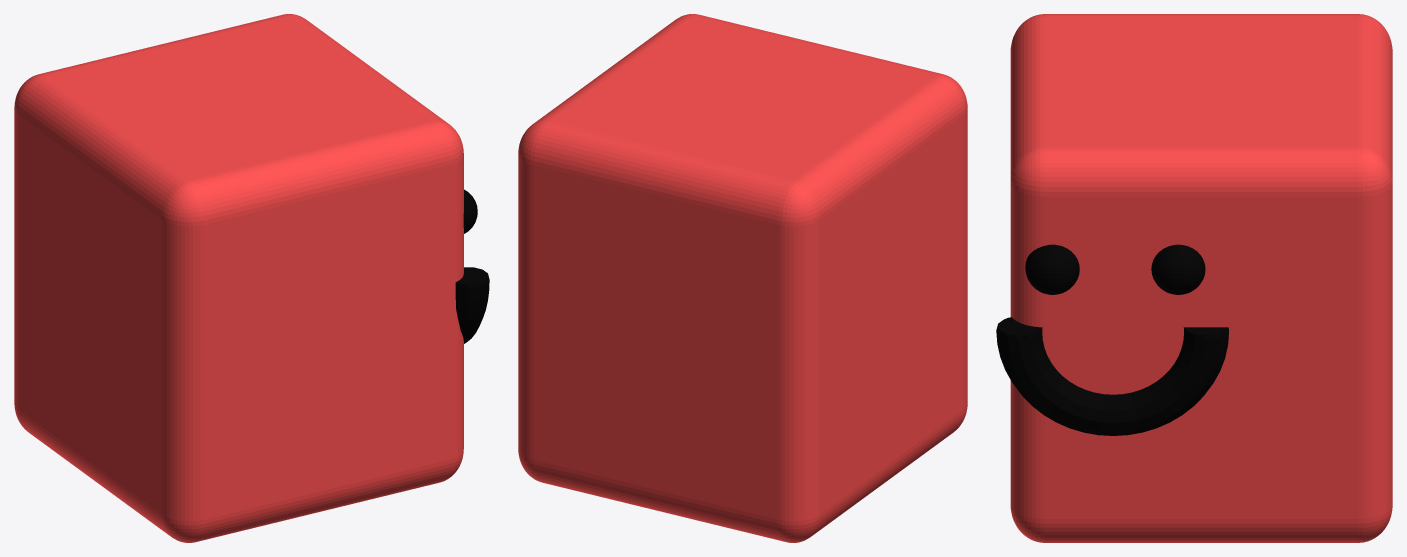
File: Chracter_HotOrange.glb
The picture shows the model from 3 angles, left to right: view 1: azimuth 30°, elevation 25°; view 2: azimuth 150°, elevation 25°; view 3: azimuth 270°, elevation 25°; orthographic projection. The views are drawn at different scales.
Parts seen in each view (by area): view 1: Chracter_HotOrange; view 2: Chracter_HotOrange; view 3: Chracter_HotOrange.
Boxes of the visible parts, <box> form: Chracter_HotOrange: <box>14,14,489,542</box>; Chracter_HotOrange: <box>518,14,967,542</box>; Chracter_HotOrange: <box>996,14,1392,542</box>.
Bounding box in the file's own units: 1.84 × 2 × 1.83.
